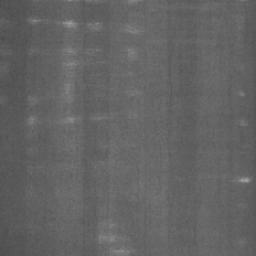Waist folding: (0, 0, 256, 70), (227, 89, 256, 185), (98, 218, 157, 256), (28, 111, 147, 127), (104, 144, 135, 150), (0, 54, 31, 56)
